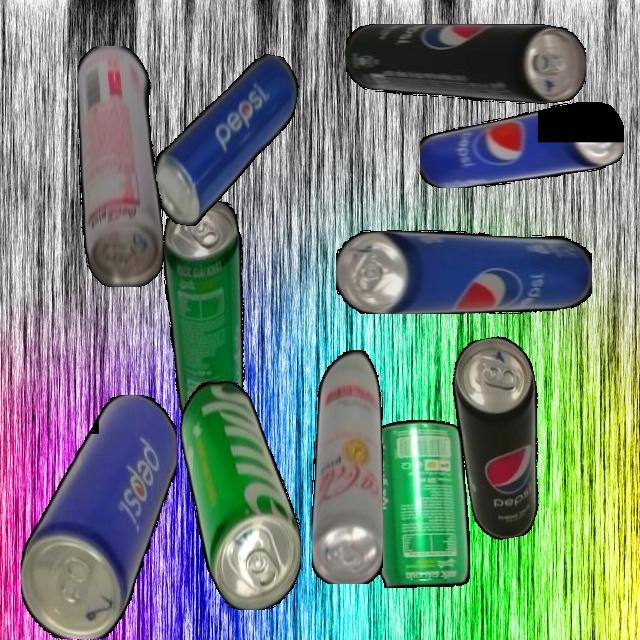debris: (20, 394, 177, 639), (132, 193, 274, 430), (146, 39, 303, 240), (179, 379, 301, 610), (444, 332, 561, 543), (336, 229, 592, 314), (77, 45, 163, 287), (345, 24, 586, 104), (419, 102, 624, 188), (311, 349, 383, 584), (373, 418, 470, 588)
